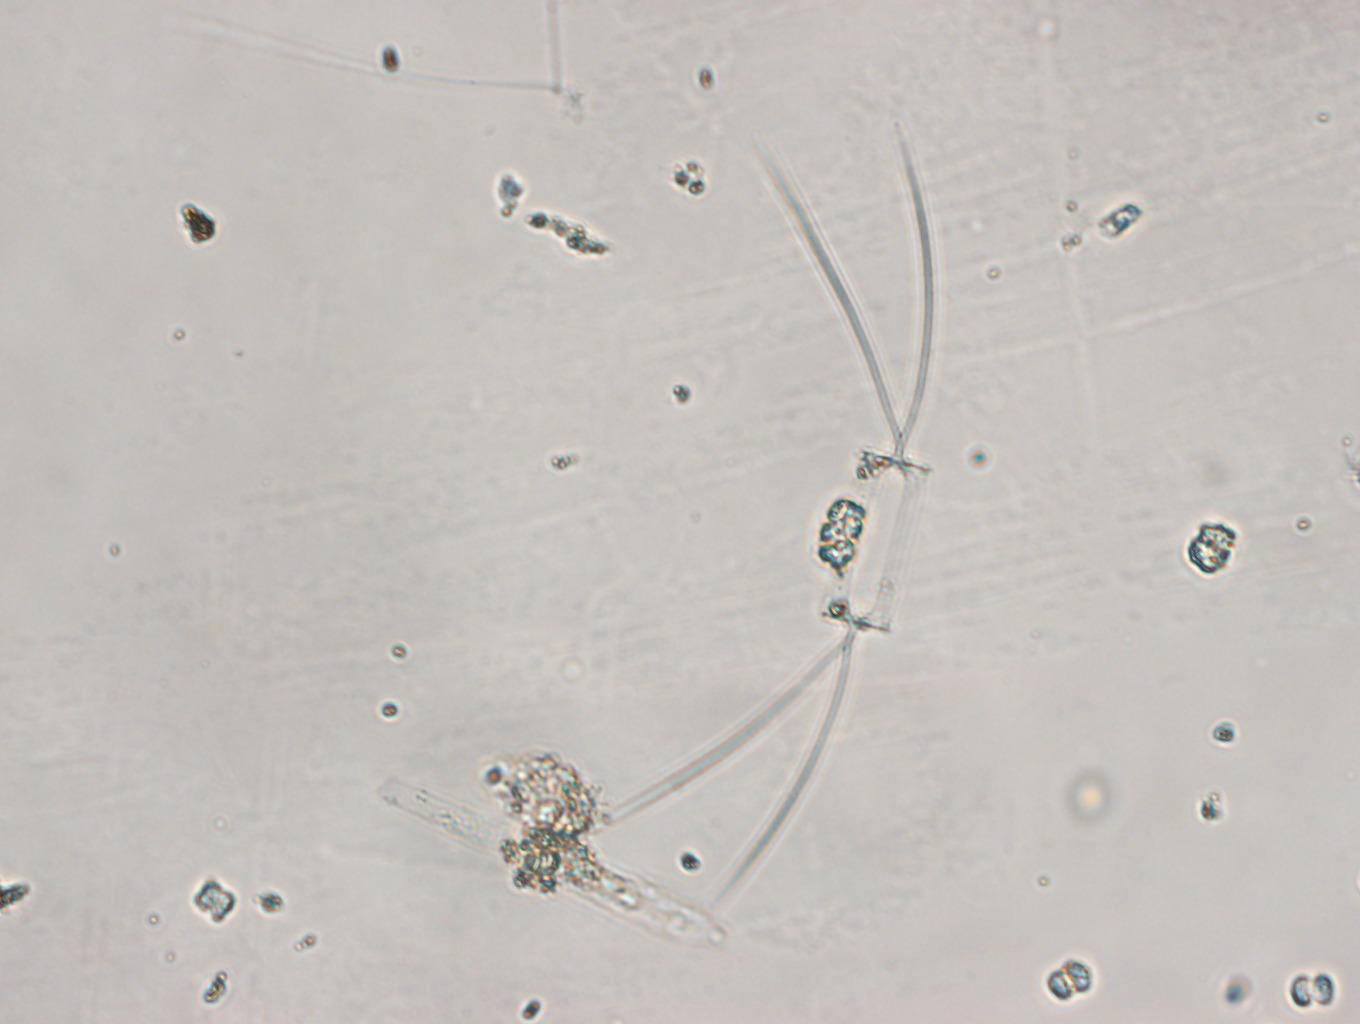chaetoceros: (559, 125, 937, 914)
